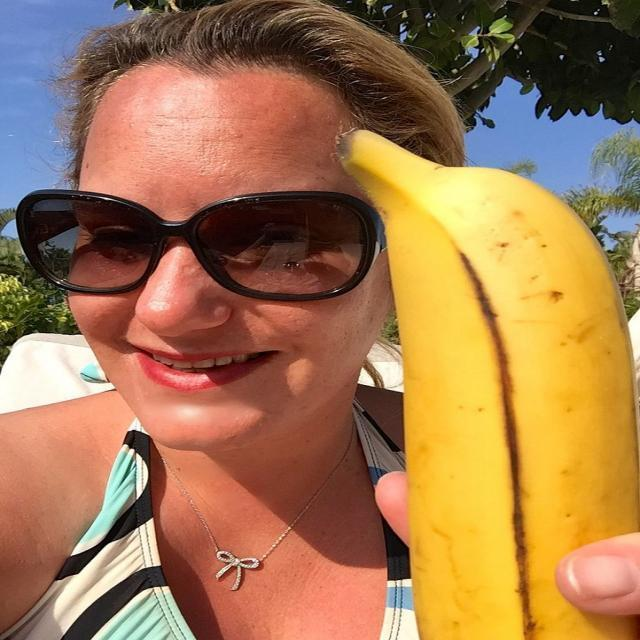Banana: (330, 125, 640, 640)
